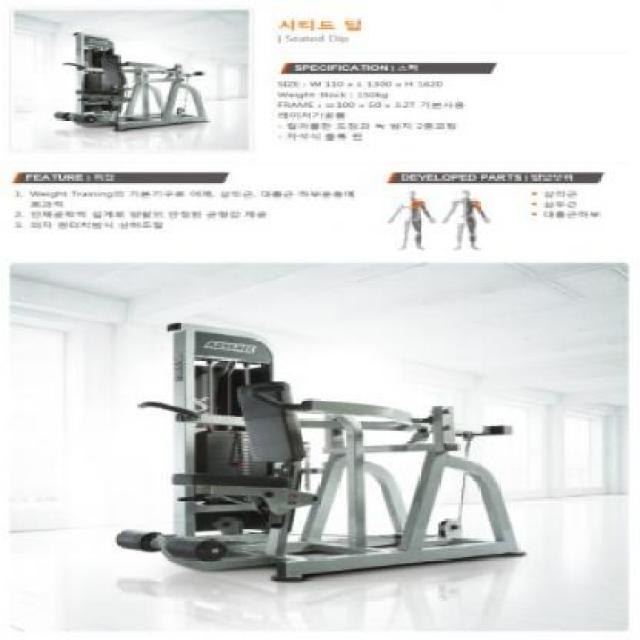seated dip machine: (118, 323, 537, 583)
